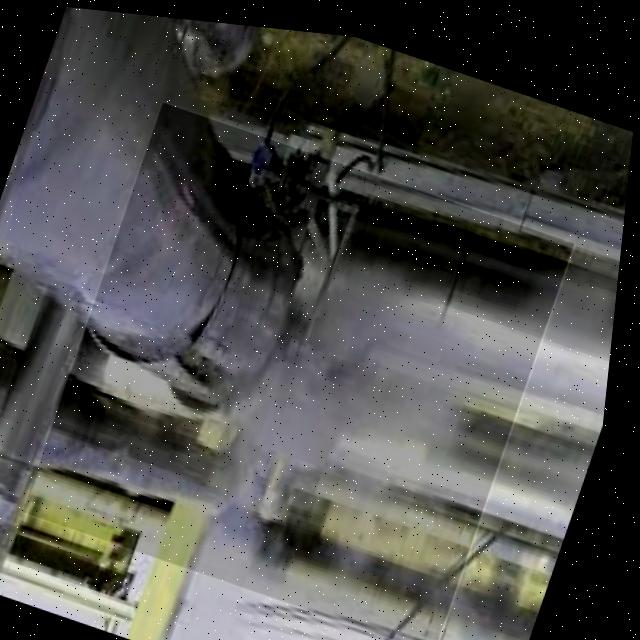corrosion: (22, 102, 574, 640)
